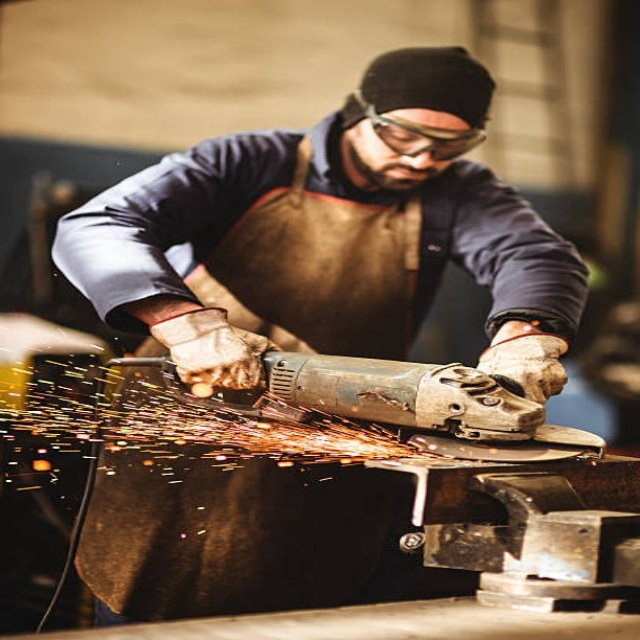Gafas: (357, 94, 485, 159)
Guantes: (149, 307, 273, 390), (474, 327, 569, 406)
Sin_mascara: (373, 161, 433, 190)
